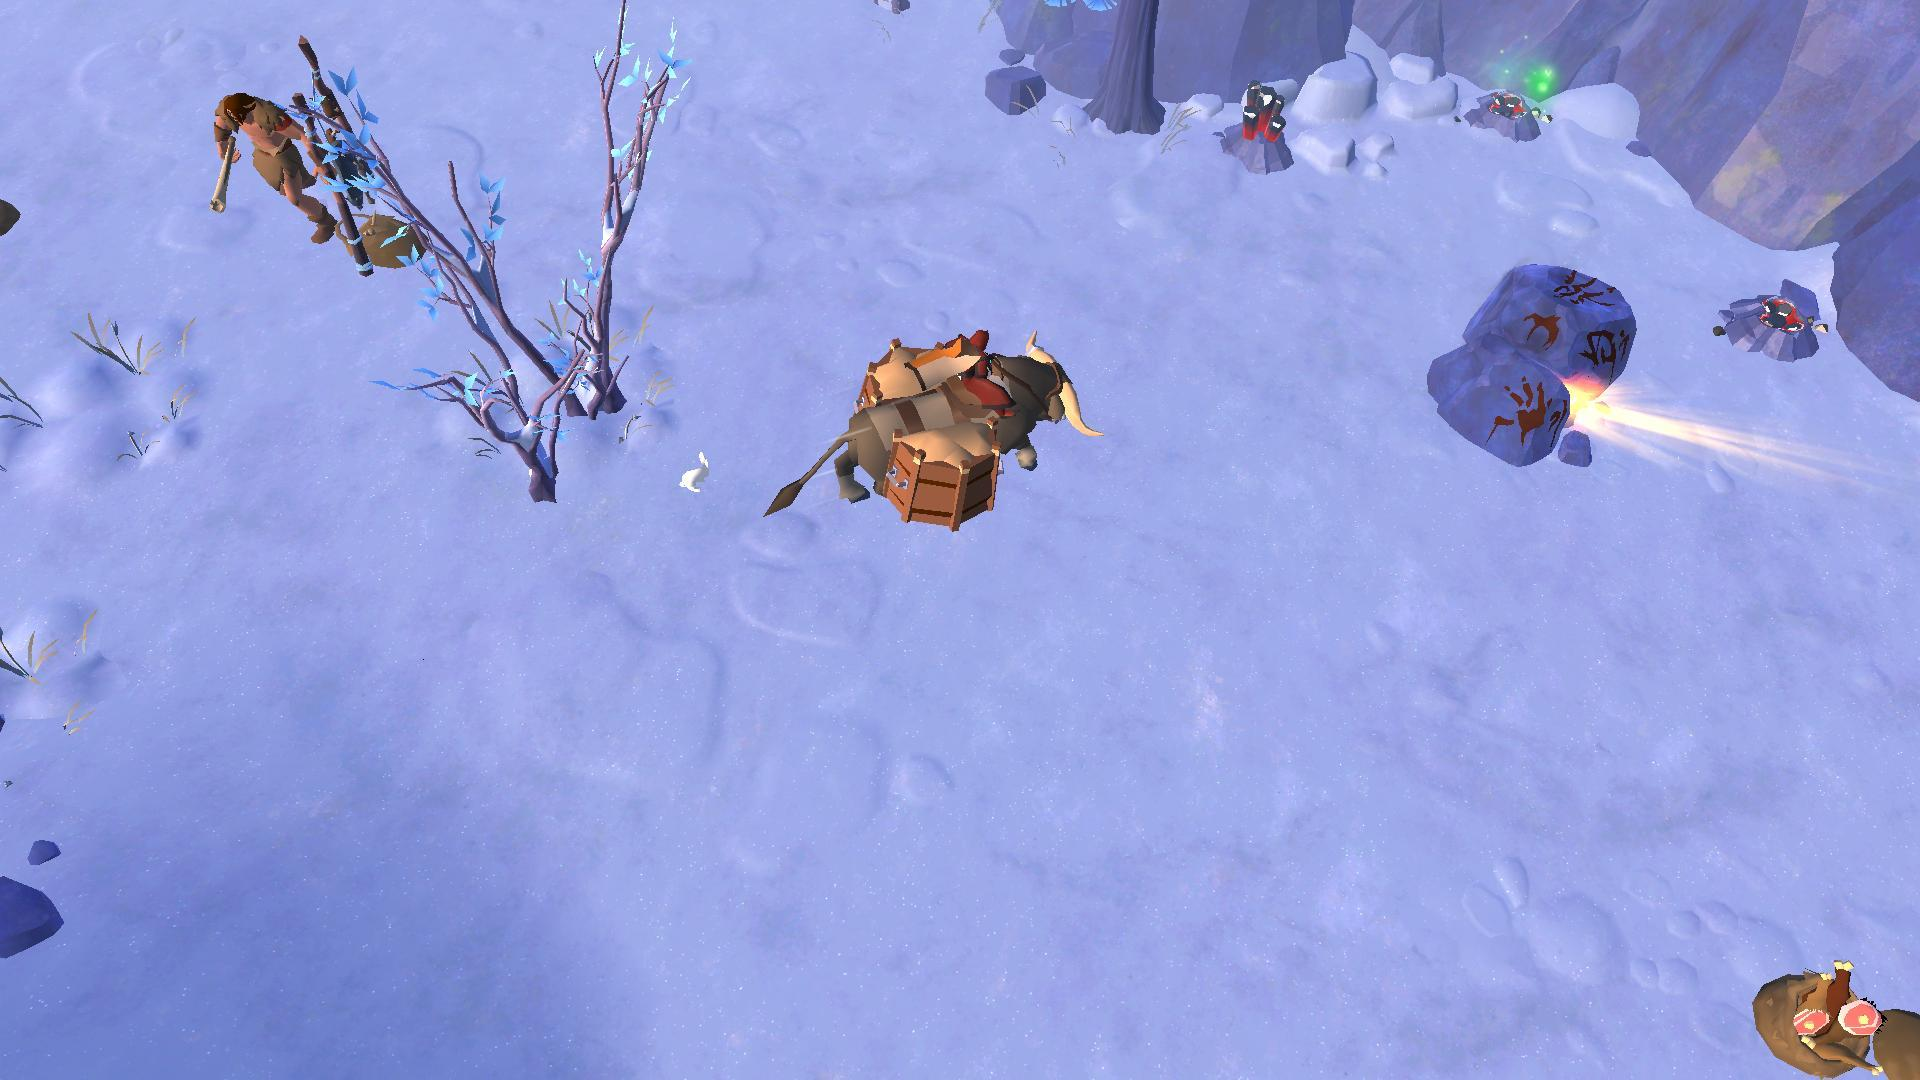enemy_factionKeeper: (202, 92, 340, 253)
